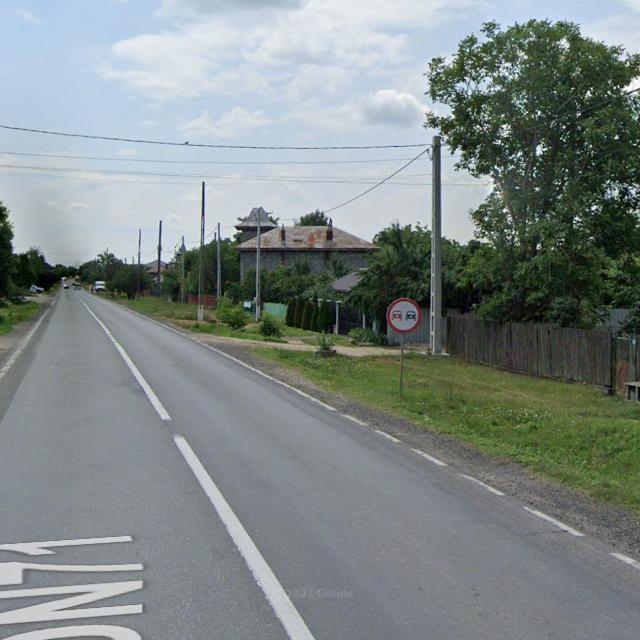forb_overtake: (386, 297, 422, 334)
